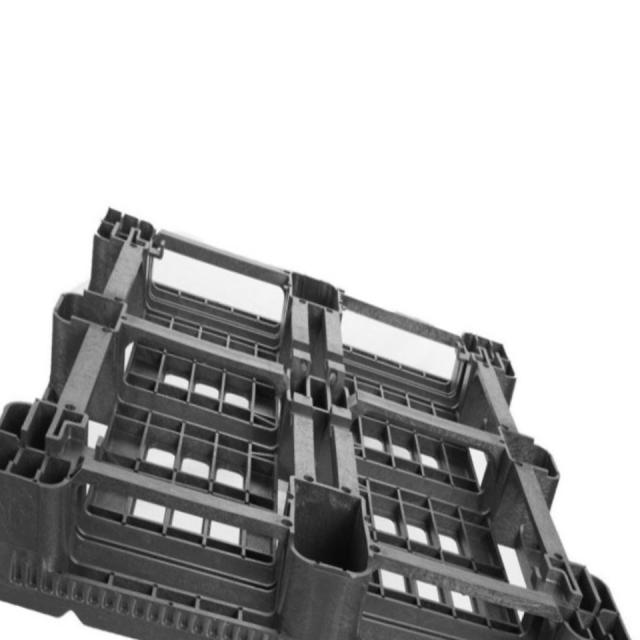non-igps: (0, 199, 640, 640)
